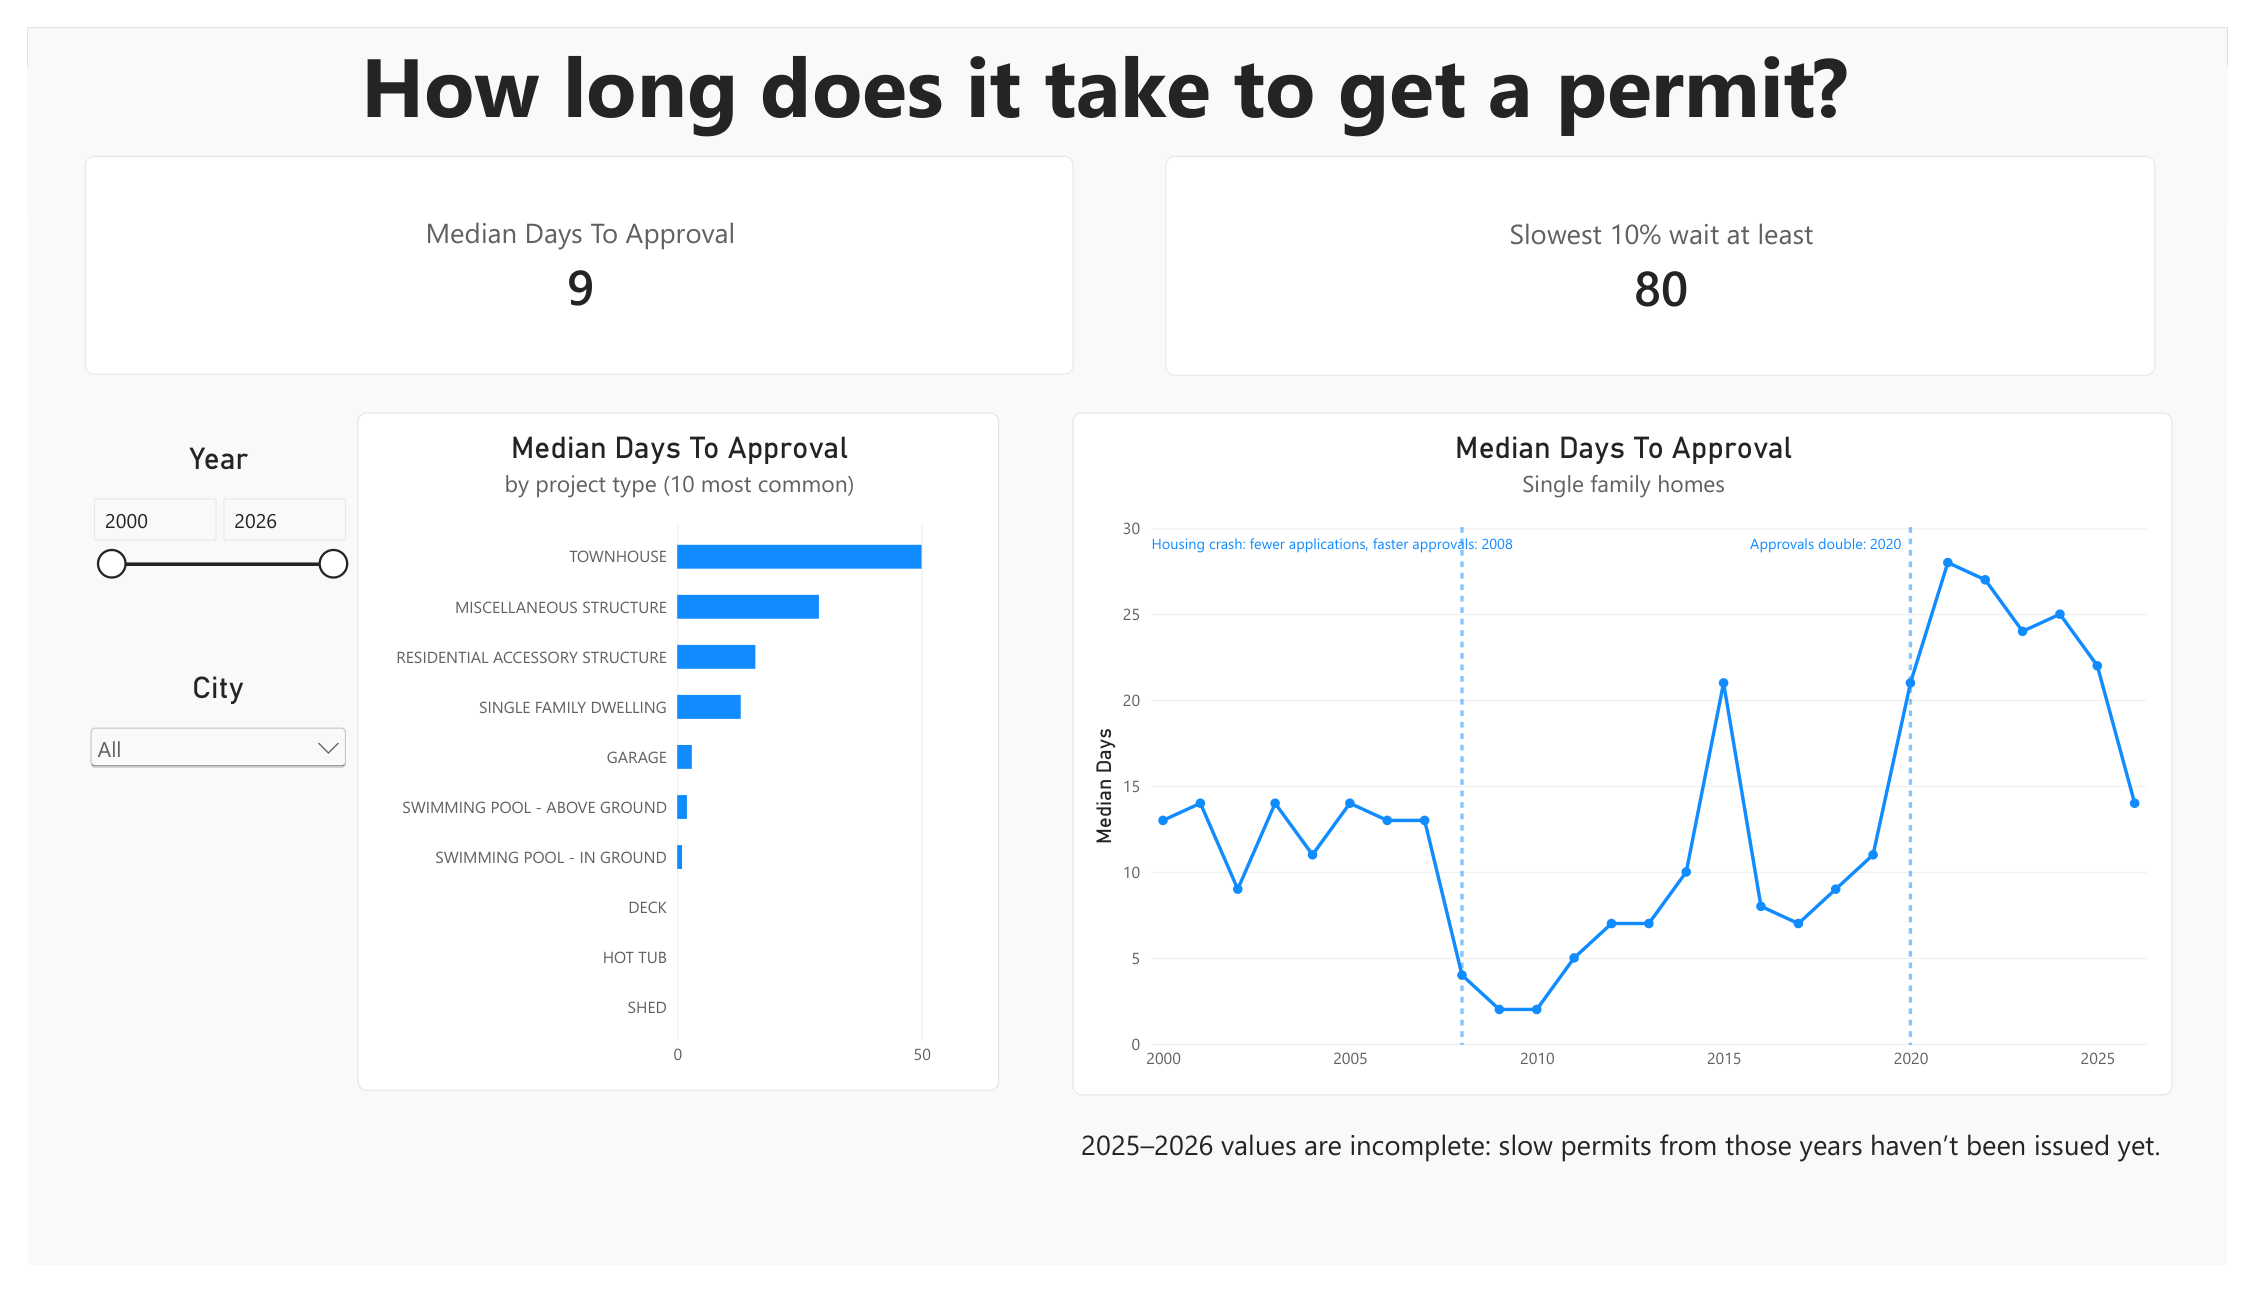

What the dashboard file says about the page in this screenshot:
{"tool":"powerbi","page":{"name":"Approval times","canvas":[1920,1080],"ordinal":1},"visuals":[{"type":"textbox","box":[10,0,1860,280],"z":0},{"type":"lineChart","title":"Median Days To Approval","fields":{"Category":["permits_dashboard.year_added"],"Y":["permits_dashboard.Median Approval Days"]},"box":[912,336,960,595.8],"z":0,"group":"g2"},{"type":"slicer","title":"Year","fields":{"Values":["permits_dashboard.year_added"]},"box":[50,360,233.3,145],"z":1000},{"type":"slicer","title":"City","fields":{"Values":["permits_dashboard.city"]},"box":[50,560,233.3,123.3],"z":2000},{"type":"group","id":"g1","title":"Group 1","box":[912,336,960,592],"z":3000},{"type":"clusteredBarChart","title":"Median Days To Approval","fields":{"Category":["permits_dashboard.use_code"],"Y":["permits_dashboard.Median Approval Days"]},"box":[288,336,560,592],"z":4000},{"type":"group","id":"g2","title":"Group 2","box":[912,336,960,592],"z":4502,"group":"g1"},{"type":"cardVisual","fields":{"Data":["permits_dashboard.Median Approval Days"]},"box":[50,111.7,863.3,191.7],"z":5000},{"type":"cardVisual","fields":{"Data":["permits_dashboard.P90 Approval Days"]},"box":[993.3,111.7,864,192],"z":6000},{"type":"textbox","box":[893.3,958.3,995,70],"z":7000}]}

Visuals, with their boxes in screenshot pixels (x1, y1, x2, y2), scaled from the page's 1920x1080 canvas onto the 2255x1293 screenshot:
textbox: <region>12, 0, 2196, 335</region>
"Median Days To Approval" lineChart: <region>1071, 402, 2199, 1116</region>
"Year" slicer: <region>59, 431, 333, 605</region>
"City" slicer: <region>59, 670, 333, 818</region>
"Group 1" group: <region>1071, 402, 2199, 1111</region>
"Median Days To Approval" clusteredBarChart: <region>338, 402, 996, 1111</region>
"Group 2" group: <region>1071, 402, 2199, 1111</region>
cardVisual - permits_dashboard.Median Approval Days: <region>59, 134, 1073, 363</region>
cardVisual - permits_dashboard.P90 Approval Days: <region>1167, 134, 2181, 364</region>
textbox: <region>1049, 1147, 2218, 1231</region>
